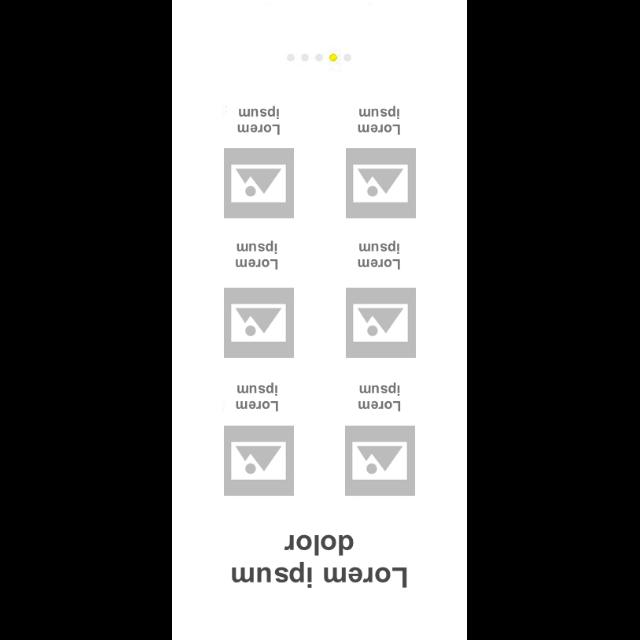image: (346, 425, 416, 495), (224, 425, 294, 495), (346, 287, 416, 357), (224, 287, 294, 357), (346, 148, 416, 218), (224, 148, 294, 218)
pageindicator: (286, 54, 352, 62)
text: (232, 532, 408, 588), (358, 240, 402, 270), (358, 382, 402, 411), (236, 240, 278, 270), (238, 105, 280, 135), (237, 382, 280, 411), (358, 106, 400, 134)
